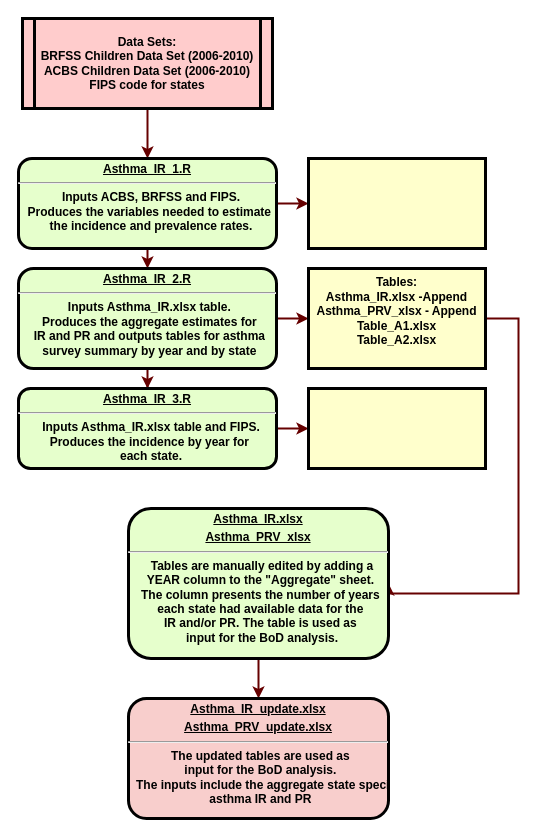
Image size: 545x837. Some labels were removed from this diagram. Each missing label, with the centre of its shape:
Tables: Asthma_result.xlsx Asthma_IR.xlsx Asthma_PRV.xlsx: the point at 396,203
Tables: Asthma_years.xlsx: the point at 396,428
